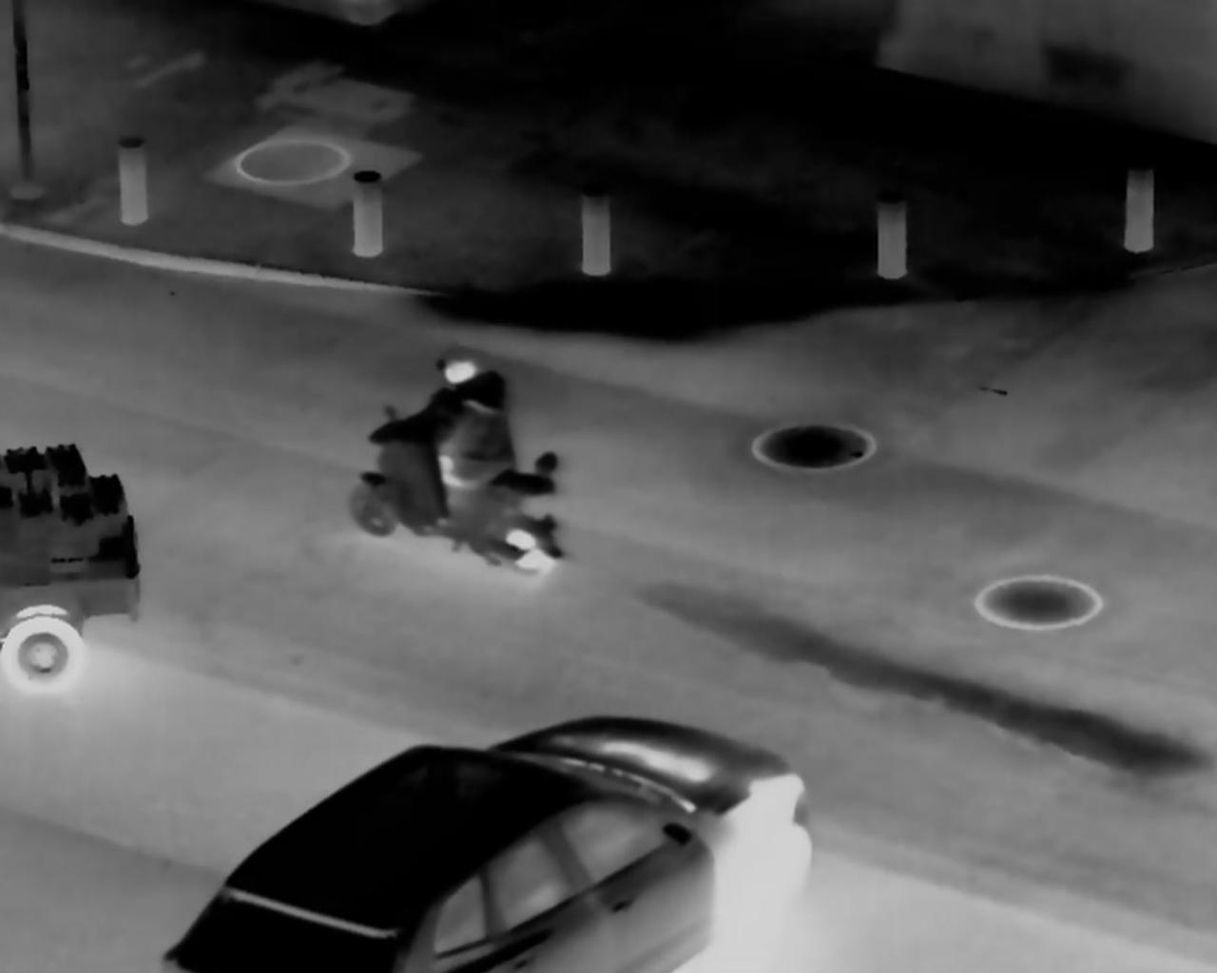person: (412, 339, 509, 527)
